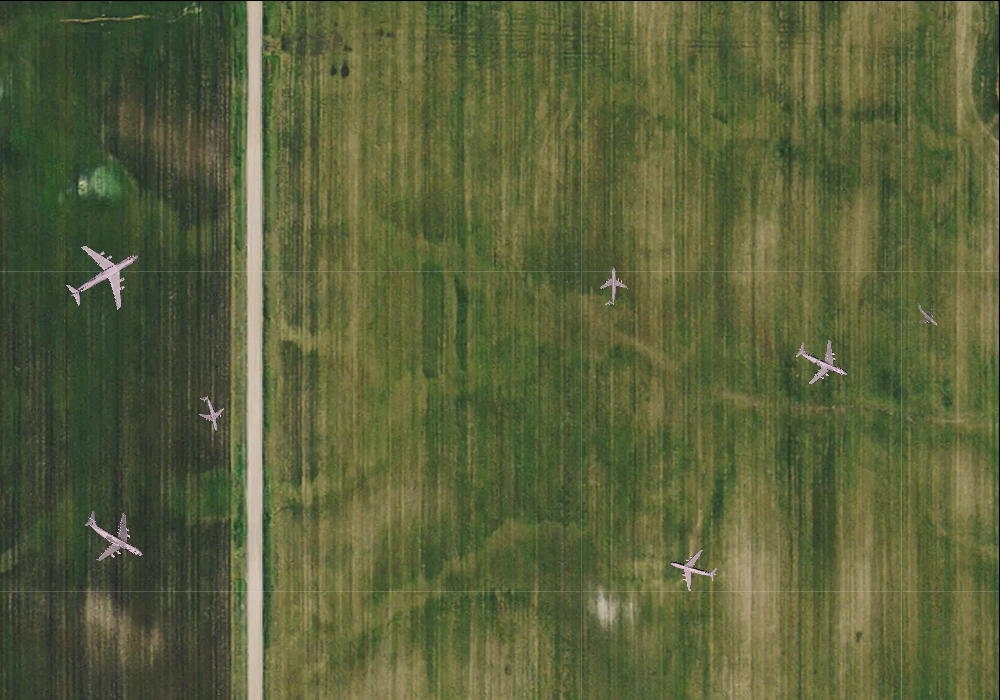plane: (51, 223, 156, 327), (70, 493, 158, 580), (786, 326, 859, 397), (664, 540, 722, 597), (190, 392, 229, 435), (908, 294, 947, 334), (594, 266, 629, 305)
